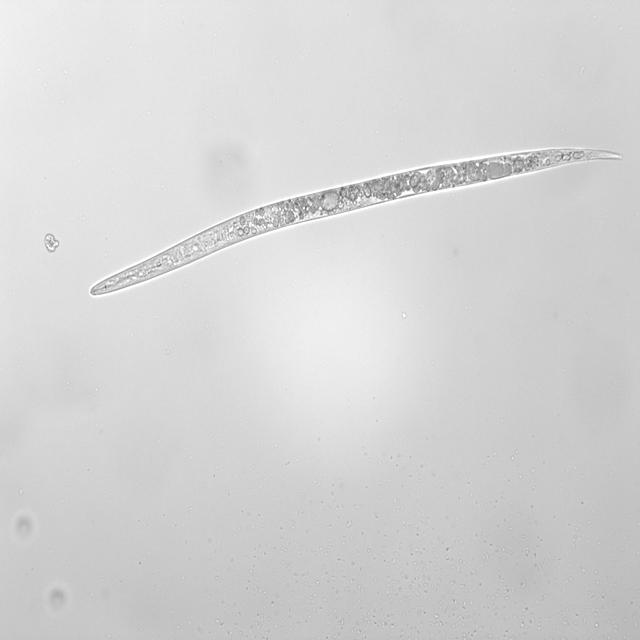Meloidogyne: (84, 143, 626, 300)
